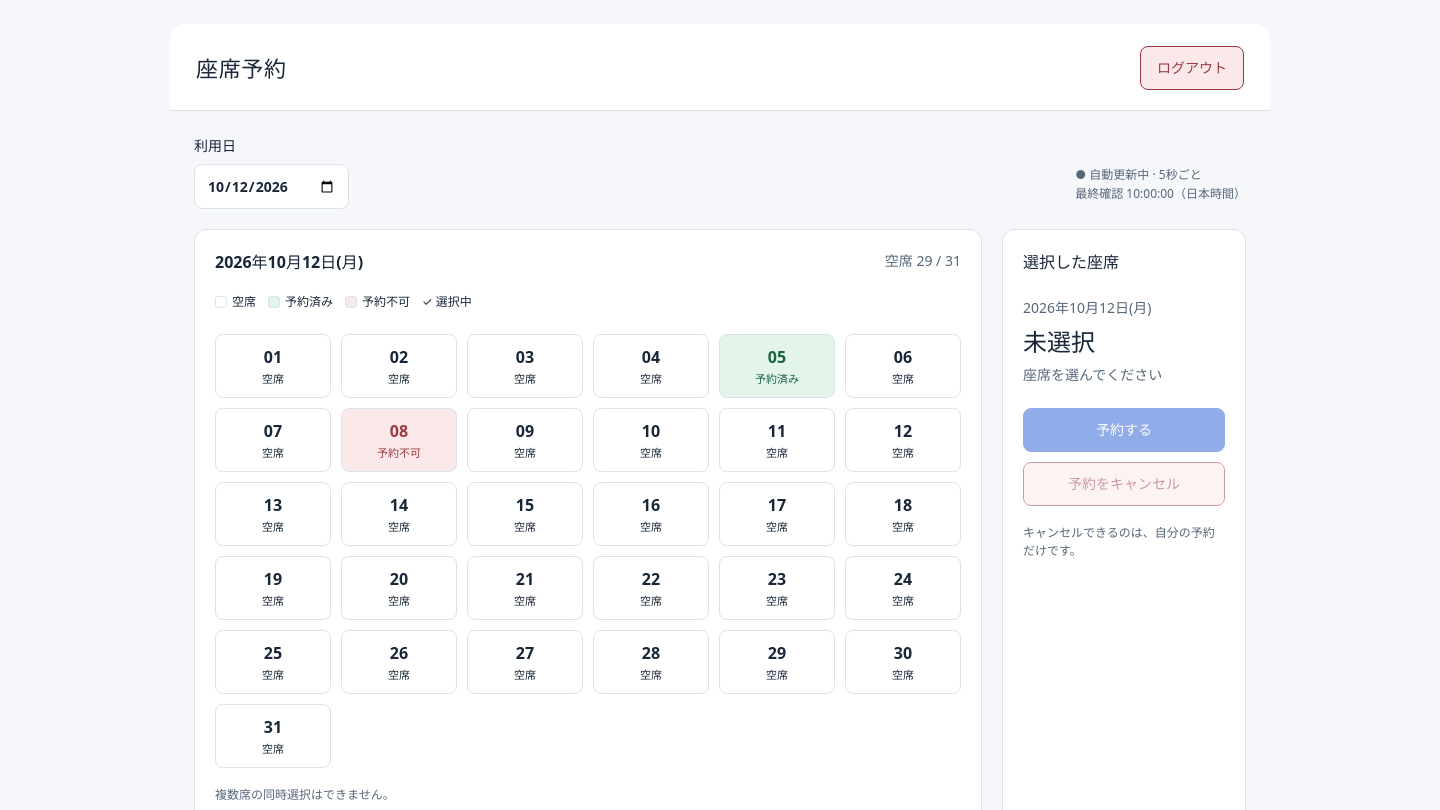
Test: マトリクス：画面と実APIクライアント（fetch境界のみ代替） › [INIT-04] 31席をAPIから表示する
expect the text "空席 29 / 31" is shown: met, box [885, 250, 961, 275]
Click the button "31 空席": (273, 736) [215, 704, 331, 768]
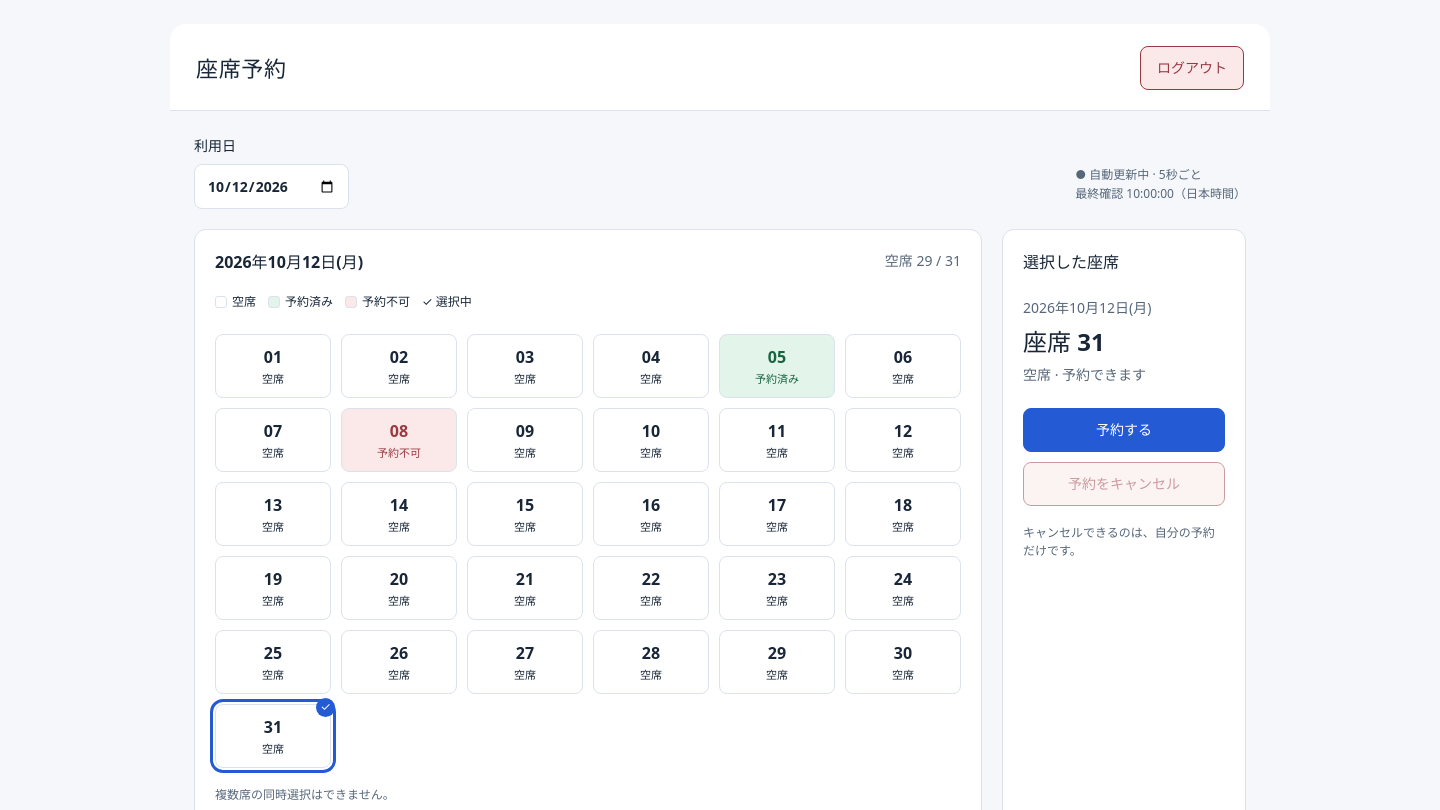
expect the button "予約する" is enabled: met, box [1023, 408, 1225, 452]
